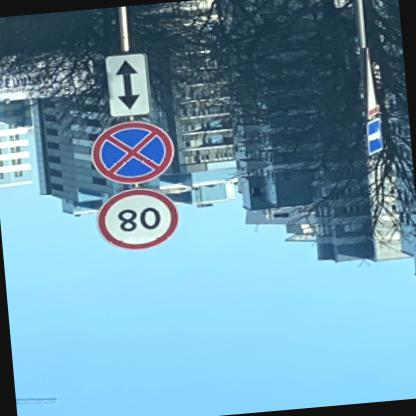speedlimit: (92, 188, 180, 256)
